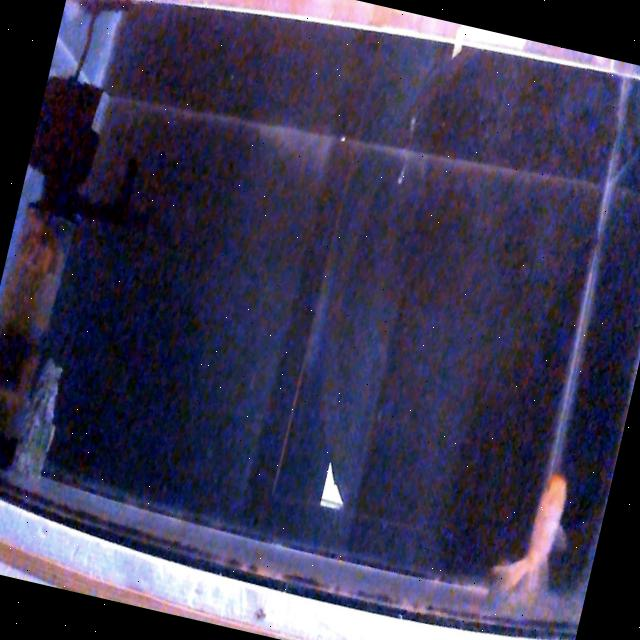fish: (485, 460, 582, 614)
